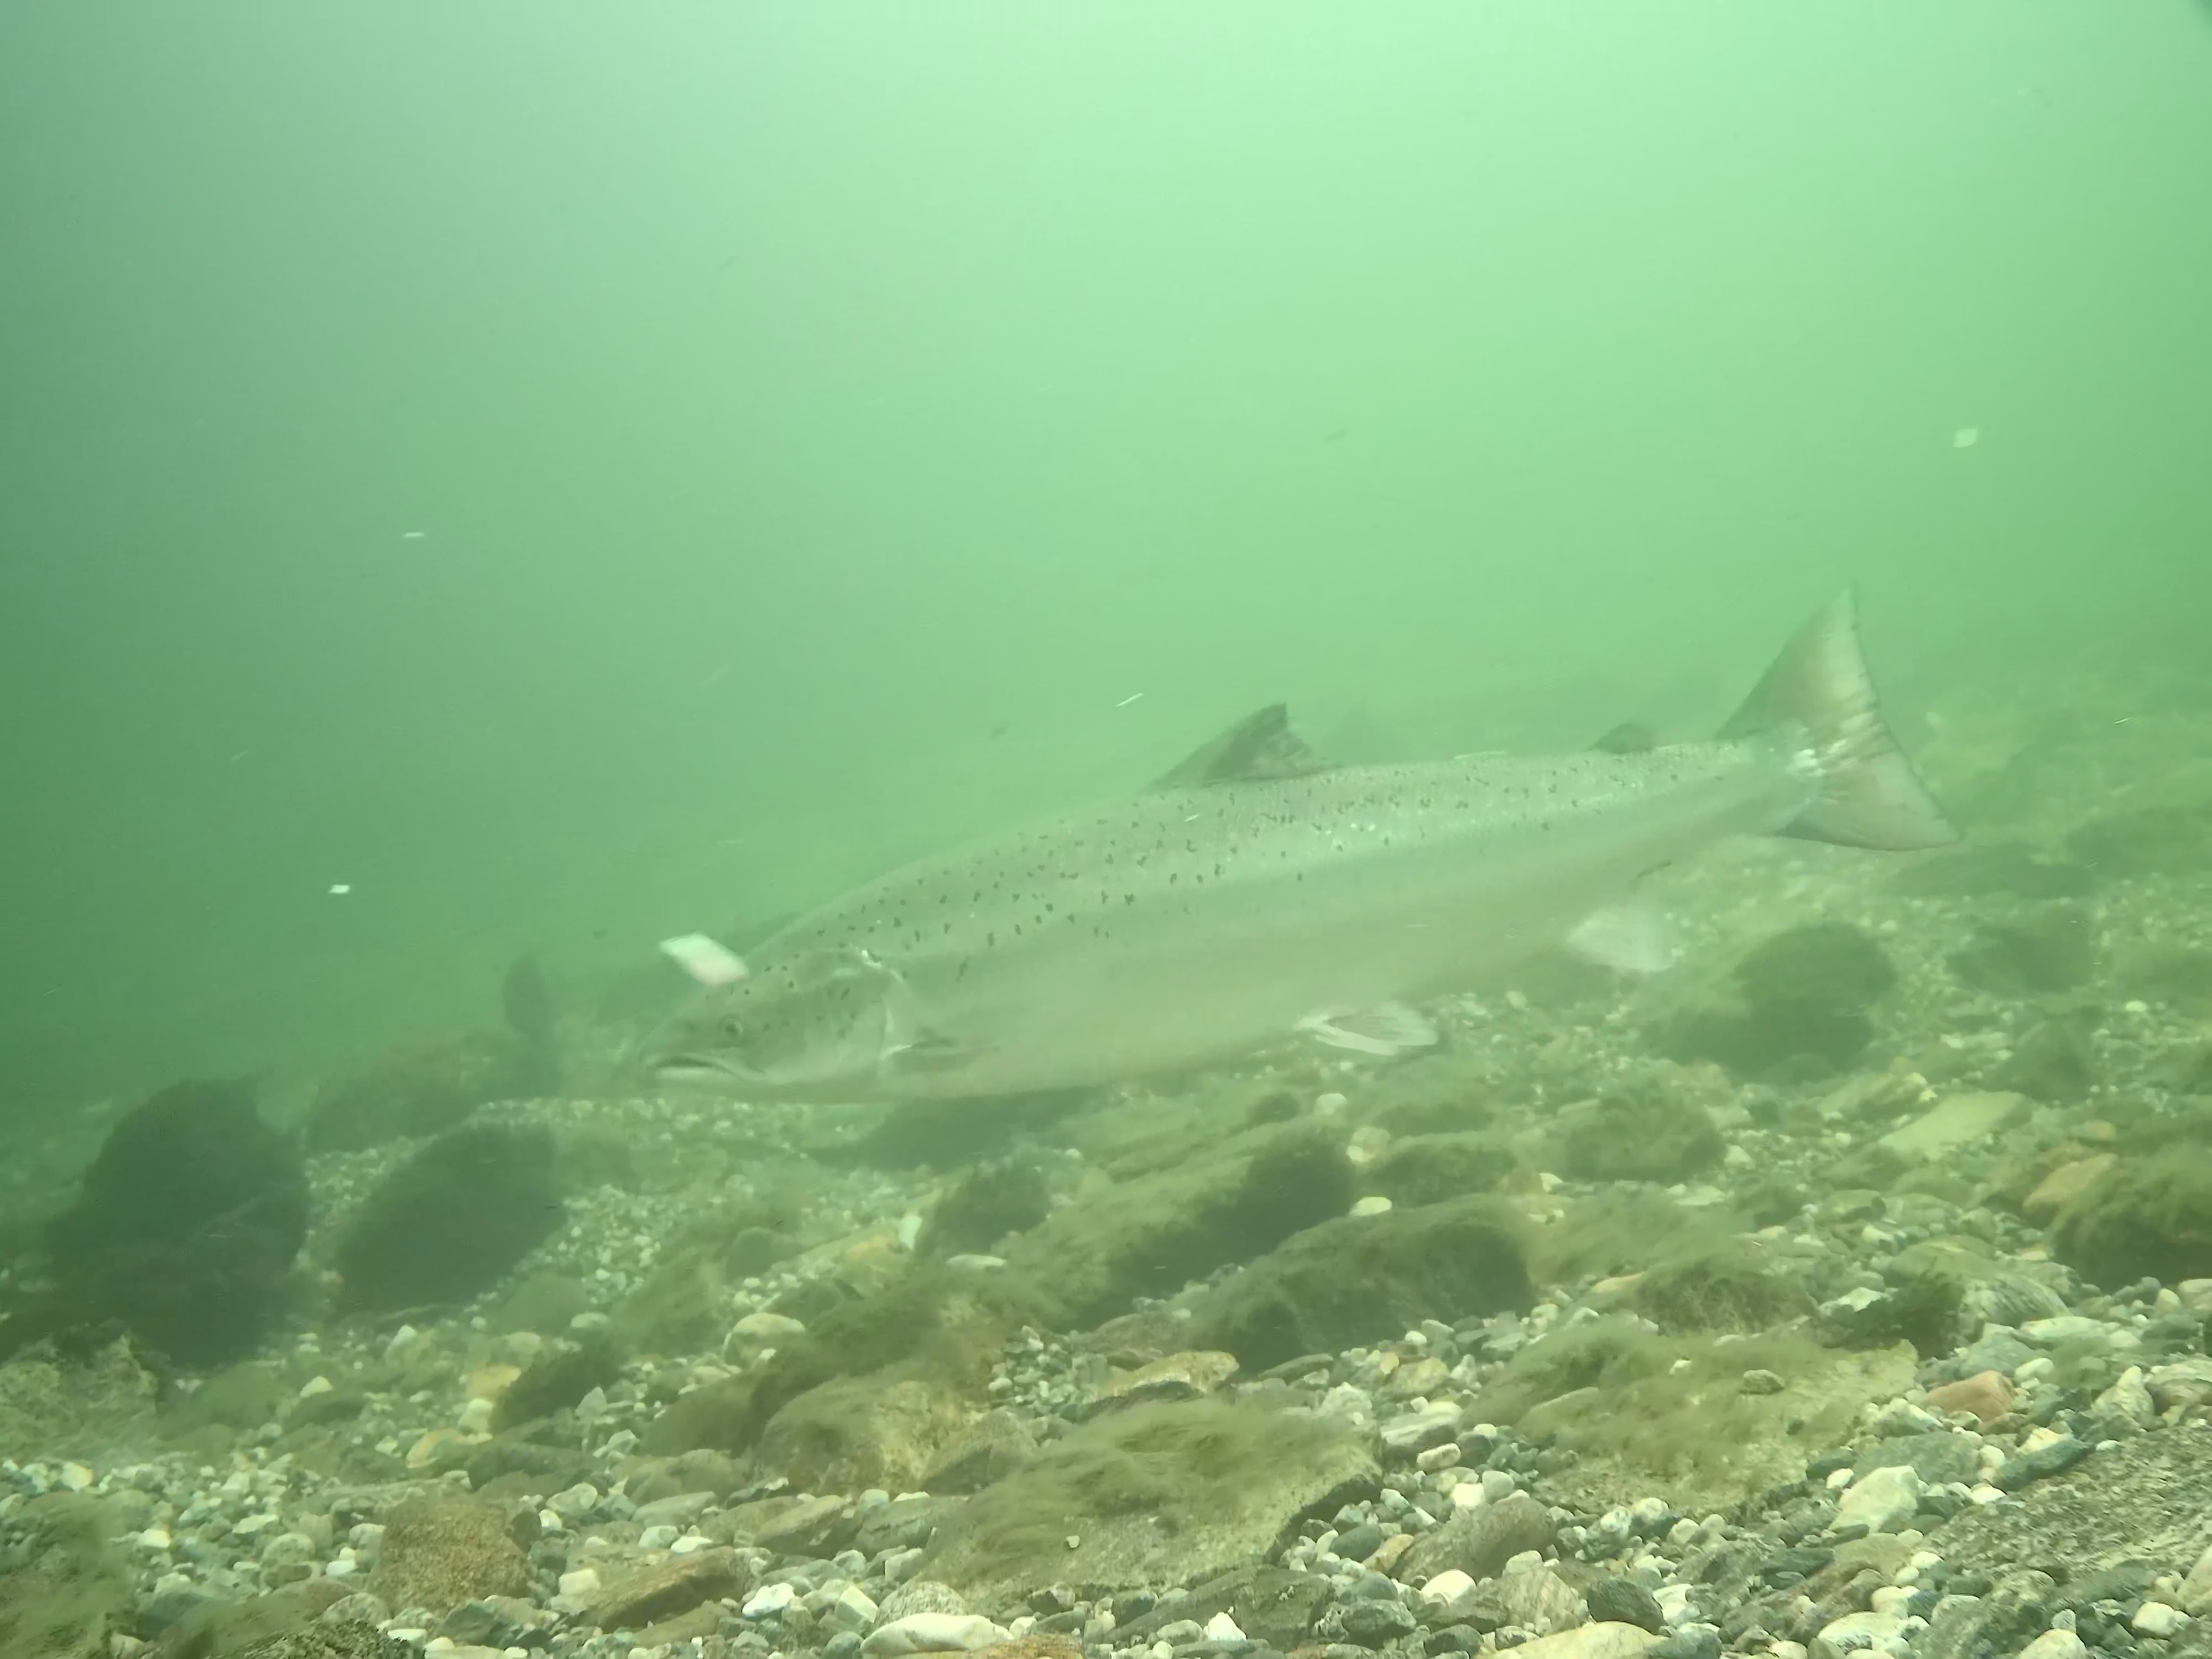salmon: (636, 575, 1966, 1108)
